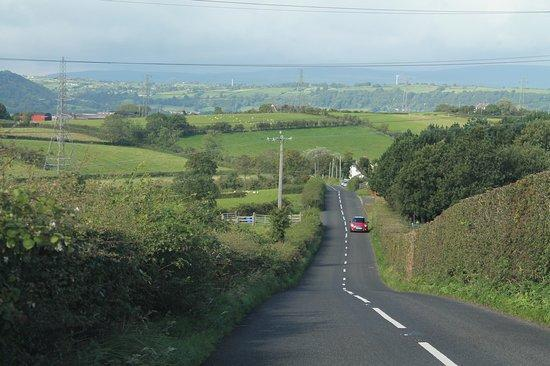car: (349, 213, 372, 235)
